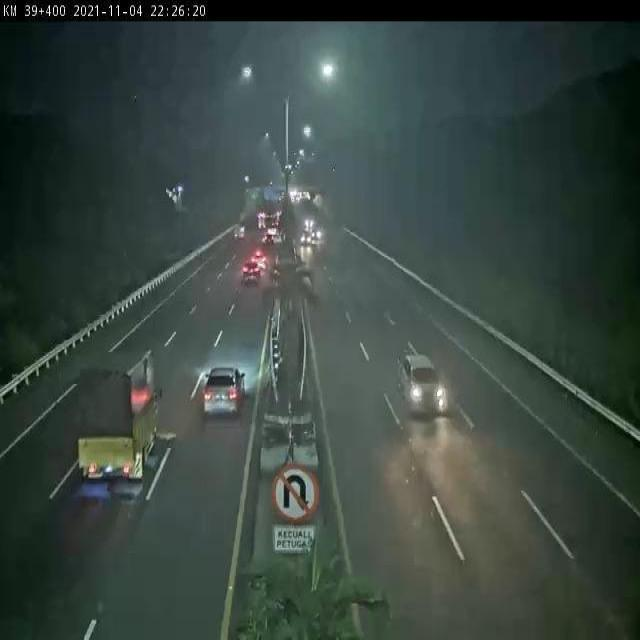car: (399, 355, 448, 416), (203, 366, 246, 414), (242, 259, 260, 283), (253, 251, 266, 272), (300, 231, 313, 247)
truck: (75, 358, 158, 478)
